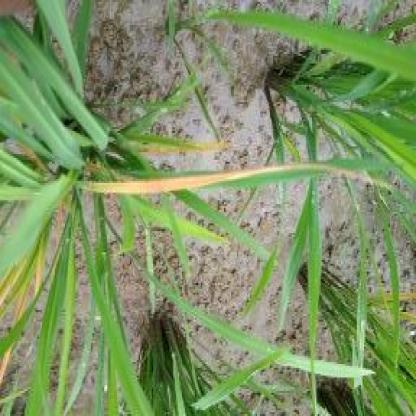Tungro: (82, 165, 323, 198)
